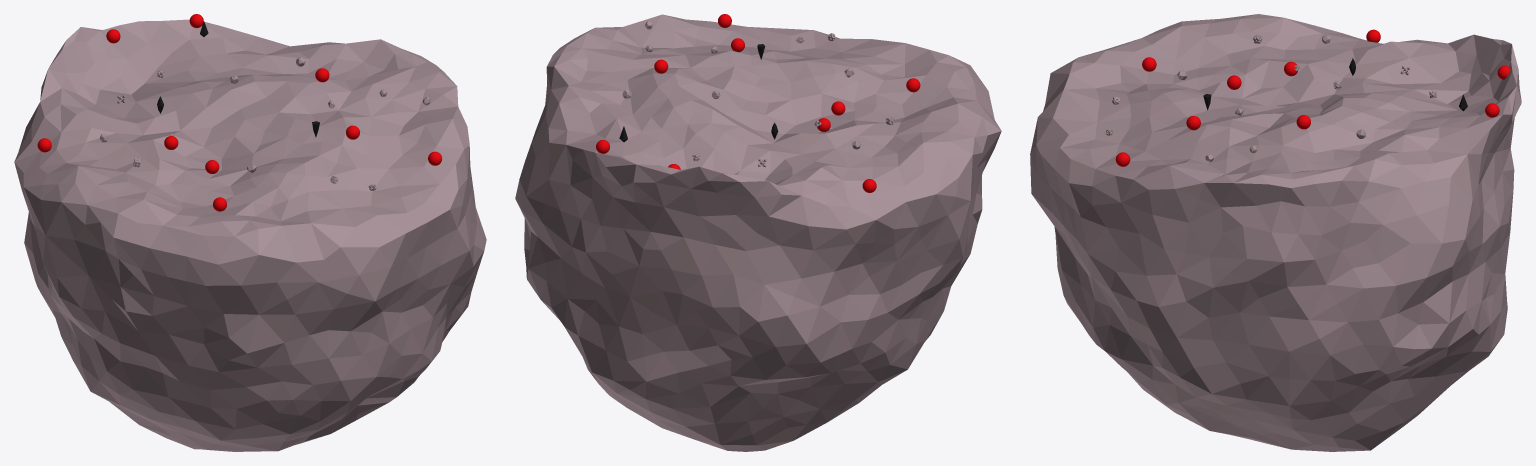
File: World.glb
3 renders of one model, left to right at view 1: azimuth 30°, elevation 25°; view 2: azimuth 150°, elevation 25°; view 3: azimuth 270°, elevation 25°, orthographic. The views are drawn at different scales.
Parts seen in each view (by area): view 1: Planet Bottom, Planet Top; view 2: Planet Bottom, Planet Top; view 3: Planet Bottom, Planet Top.
Part boxes in pixels (x1,y1,x2,y2): Planet Bottom: (14,27,486,451); Planet Top: (14,19,469,236); Planet Bottom: (515,31,1001,451); Planet Top: (547,14,984,219); Planet Bottom: (1030,39,1521,451); Planet Top: (1053,14,1516,189).
Bounding box in the file's own units: 50.7 × 40.88 × 50.72.
